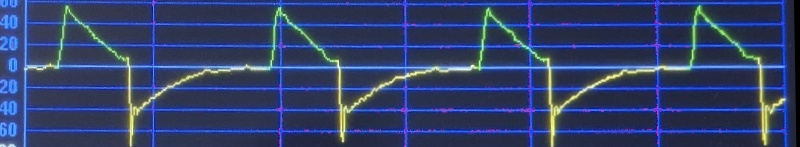normal_flow: (25, 0, 784, 147)
